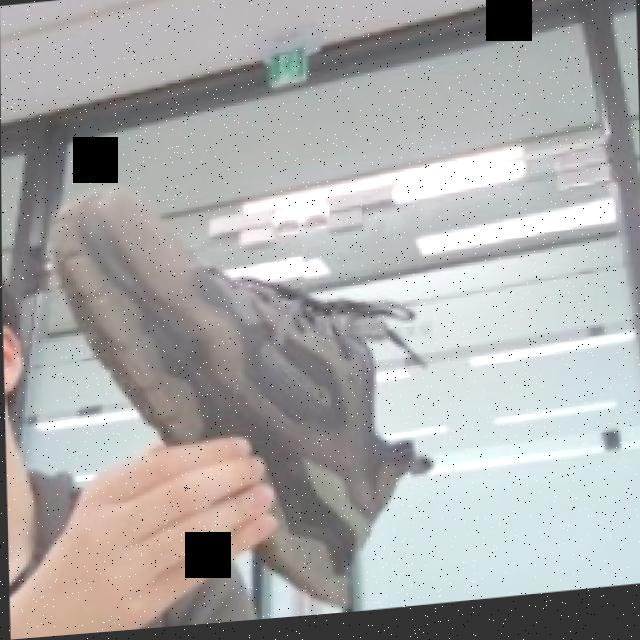shoes: (12, 85, 476, 639)
